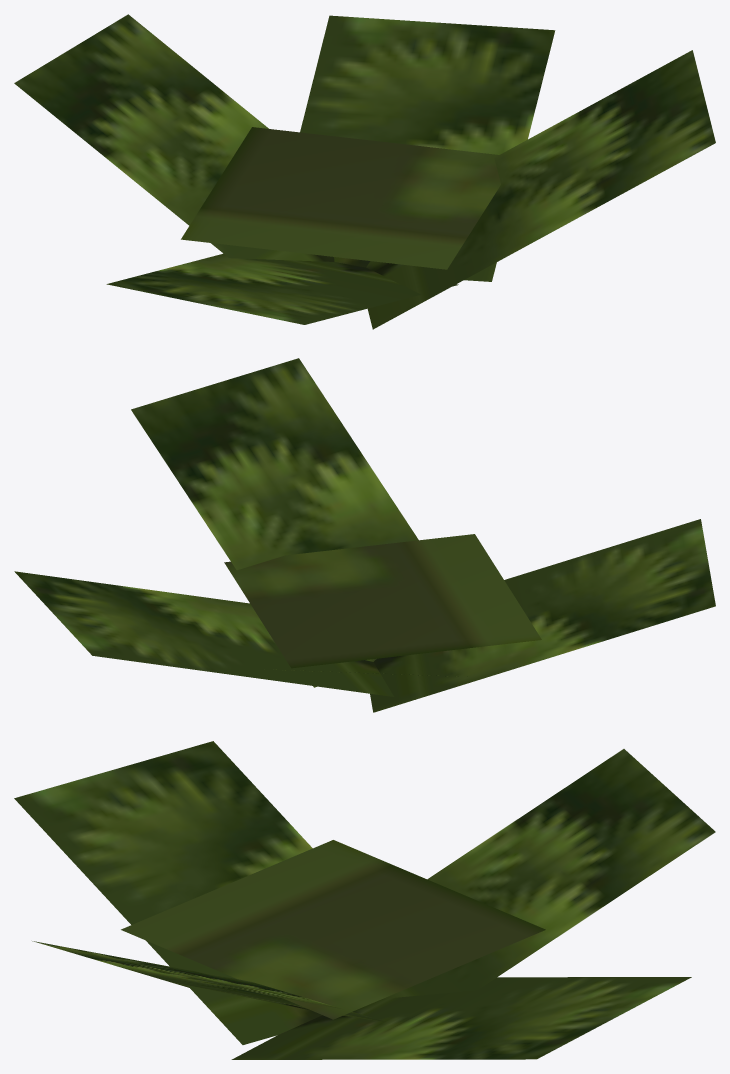
The model's file is dec_Short_Bush_05_96442.glb.
3 renders of one model, top to bottom at view 1: azimuth 30°, elevation 25°; view 2: azimuth 150°, elevation 25°; view 3: azimuth 270°, elevation 25°, orthographic. The views are drawn at different scales.
Visible parts, largest first — view 1: Short_Bush_05_mesh; view 2: Short_Bush_05_mesh; view 3: Short_Bush_05_mesh.
Part boxes in pixels (box(x1,y1,x2,y2)): Short_Bush_05_mesh: box(14, 14, 715, 329); Short_Bush_05_mesh: box(14, 358, 715, 712); Short_Bush_05_mesh: box(14, 741, 715, 1059).
Bounding box in the file's own units: 0.4769 × 0.1326 × 0.4396.
1 material, 1 textured.
